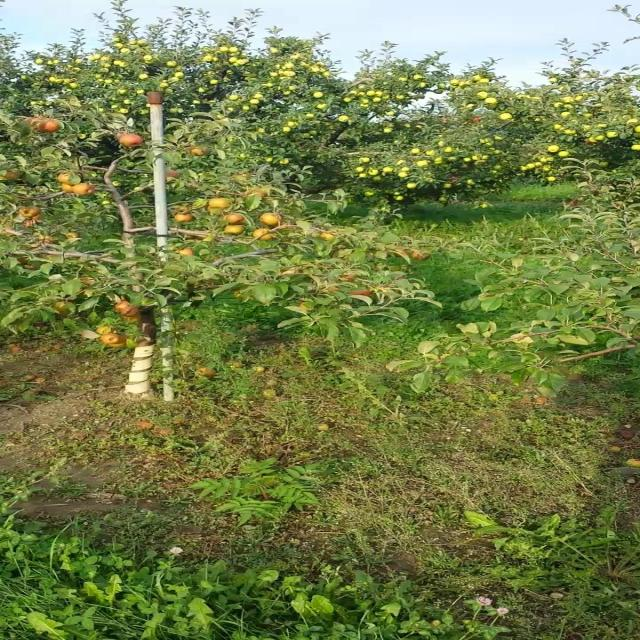apple: (120, 136, 142, 147), (120, 304, 140, 315), (262, 216, 281, 227), (77, 184, 94, 196), (20, 208, 43, 216), (28, 120, 43, 131), (42, 124, 62, 132), (198, 368, 215, 377), (255, 232, 274, 240), (227, 216, 245, 224), (56, 304, 69, 315), (298, 300, 311, 311), (212, 200, 229, 208), (191, 148, 208, 156), (412, 252, 428, 260), (227, 228, 242, 236), (177, 216, 192, 224), (319, 232, 334, 240), (6, 172, 21, 180), (284, 268, 299, 276), (35, 120, 44, 132), (99, 328, 114, 335), (127, 316, 142, 323), (248, 192, 268, 197), (106, 336, 119, 343), (184, 248, 194, 256), (63, 184, 73, 192), (340, 276, 356, 281), (568, 200, 578, 208), (28, 220, 37, 228), (355, 292, 372, 296), (28, 264, 36, 272), (63, 176, 71, 184), (397, 252, 409, 257), (70, 232, 78, 239), (170, 172, 178, 178)
